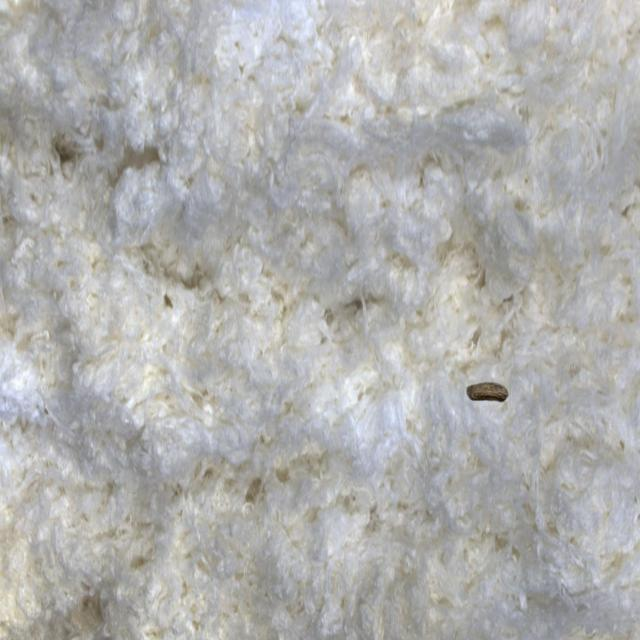dust: (449, 348, 523, 444)
